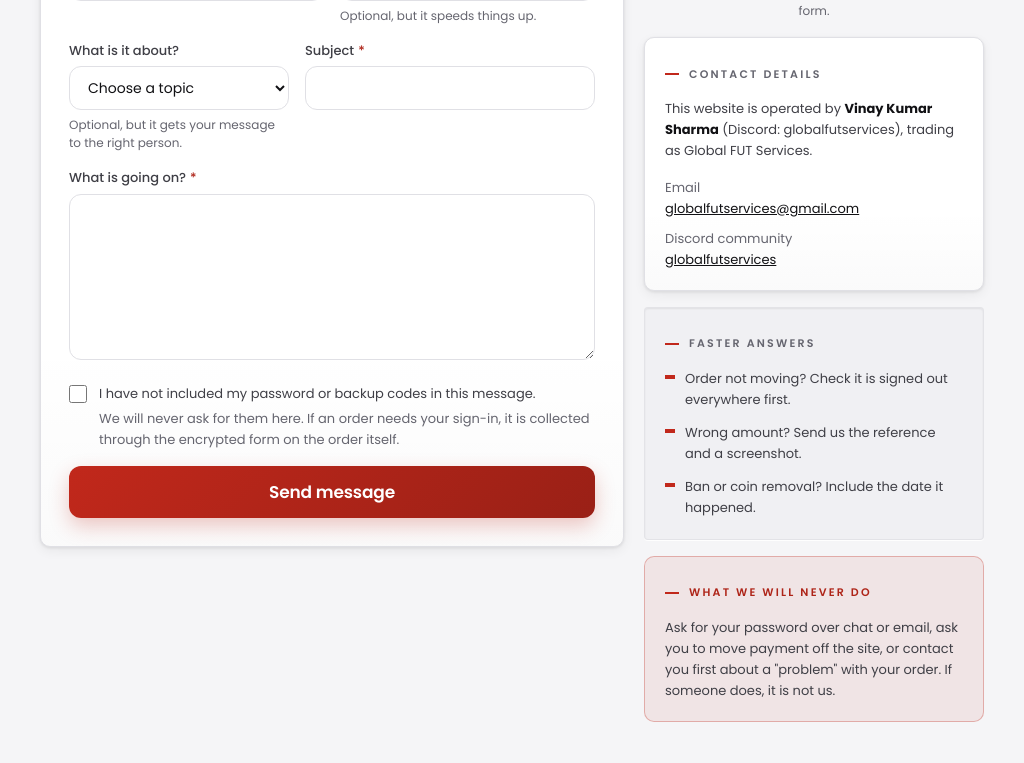
Scenario: what the form requires › email, subject, message and the acknowledgement, each said under its own field
This screenshot has width=1024, height=763.
(page scrolled)
Click the button "Send message". click: click(332, 492)
box: [69,466,595,518]
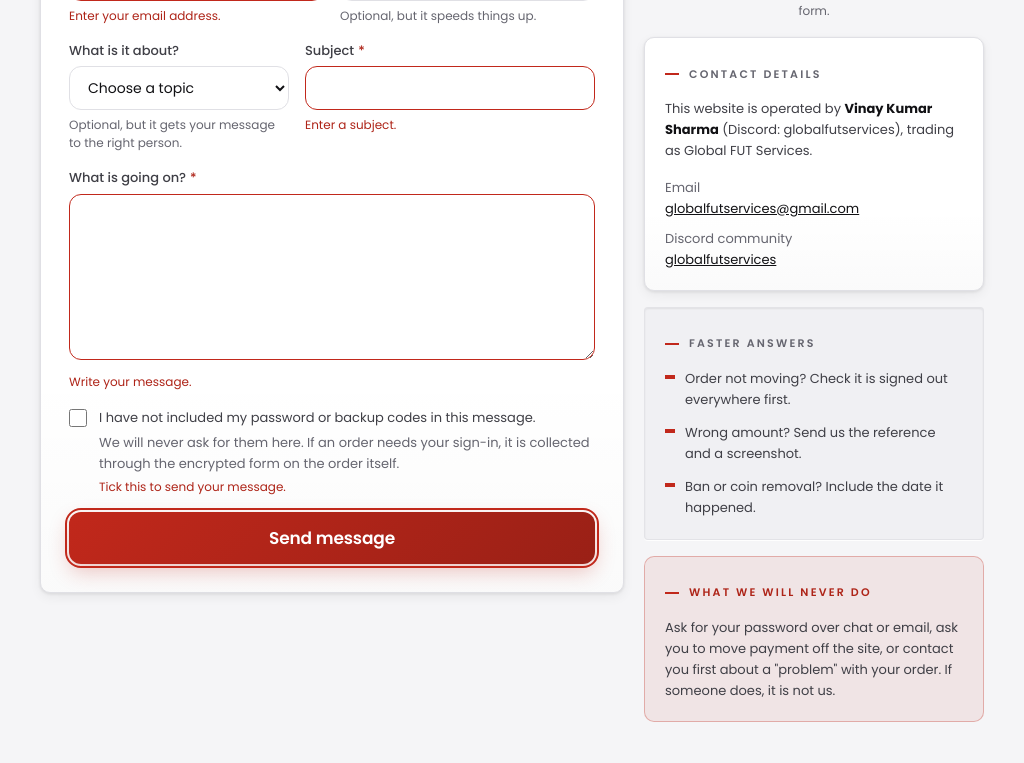
Expected: the text "Enter your email address." is shown, [69,7,220,24]
Expected: the text "Enter a subject." is shown, [305,116,396,133]
Expected: the text "Write your message." is shown, [69,373,192,390]
